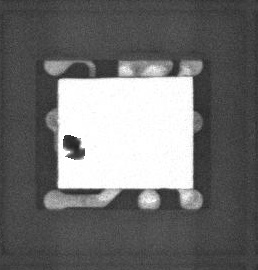DIE_INK: (60, 132, 88, 162)
